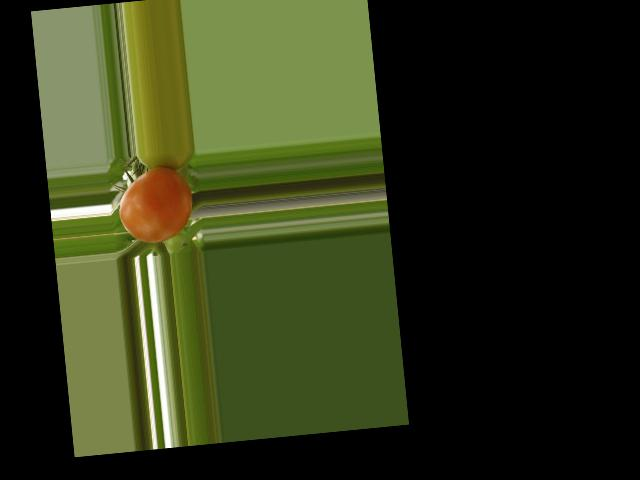tomato: (115, 164, 196, 245)
